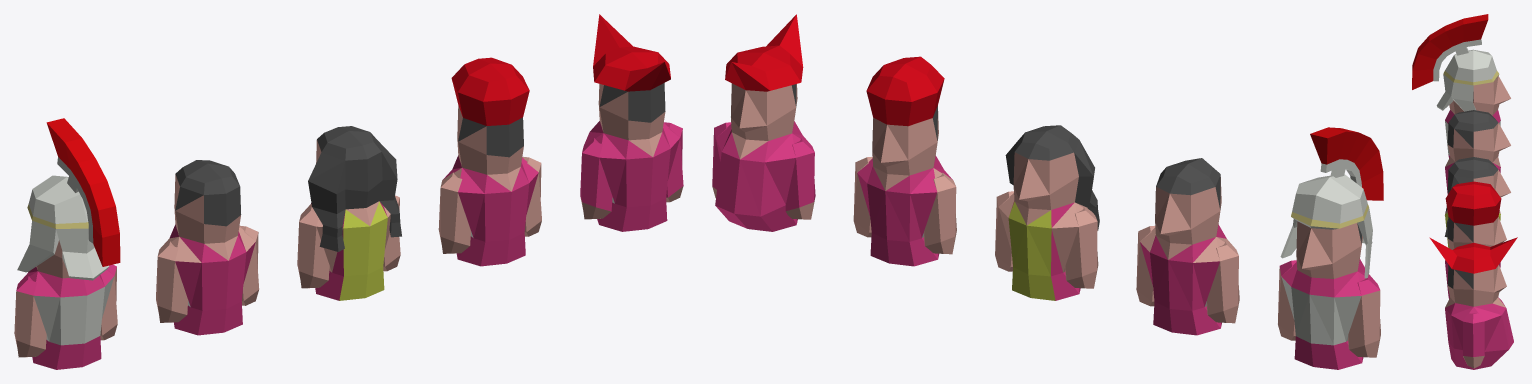
The model's file is roman.fbx.
3 renders of one model, left to right at view 1: azimuth 30°, elevation 25°; view 2: azimuth 150°, elevation 25°; view 3: azimuth 270°, elevation 25°, orthographic. The views are drawn at different scales.
Visible parts, largest first — view 1: roman_body.003, roman_body.004, roman_body.002, roman_body.001, roman_body, roman_helmet, roman_griva, roman_arm_l.001, roman_arm_l, roman_arm_l.004, roman_arm_l.003, roman_arm_l.002 (+5 smaller); view 2: roman_body.004, roman_body.003, roman_body.002, roman_body.001, roman_body, roman_helmet, roman_griva, roman_arm_l.002, roman_arm_l, roman_arm_l.001, roman_arm_l.003, roman_arm_l.004 (+4 smaller); view 3: roman_body.004, roman_body.003, roman_body.001, roman_griva, roman_helmet, roman_body.002, roman_body, roman_arm_r.004.
Part boxes in pixels (x1=…): roman_body.003: x1=443, y1=57, x2=538, y2=266; roman_body.004: x1=584, y1=14, x2=679, y2=231; roman_body.002: x1=301, y1=126, x2=401, y2=300; roman_body.001: x1=160, y1=160, x2=255, y2=335; roman_body: x1=18, y1=240, x2=114, y2=369; roman_helmet: x1=17, y1=175, x2=109, y2=280; roman_griva: x1=46, y1=118, x2=120, y2=266; roman_arm_l.001: x1=156, y1=241, x2=188, y2=322; roman_arm_l: x1=14, y1=276, x2=46, y2=357; roman_arm_l.004: x1=580, y1=138, x2=612, y2=219; roman_arm_l.003: x1=438, y1=172, x2=470, y2=253; roman_arm_l.002: x1=297, y1=207, x2=329, y2=288; roman_body.004: x1=715, y1=14, x2=811, y2=231; roman_body.003: x1=857, y1=56, x2=952, y2=266; roman_body.002: x1=998, y1=125, x2=1099, y2=300; roman_body.001: x1=1140, y1=158, x2=1235, y2=335; roman_body: x1=1281, y1=221, x2=1377, y2=369; roman_helmet: x1=1280, y1=174, x2=1372, y2=278; roman_griva: x1=1310, y1=127, x2=1383, y2=200; roman_arm_l.002: x1=1065, y1=207, x2=1098, y2=288; roman_arm_l: x1=1348, y1=277, x2=1380, y2=357; roman_arm_l.001: x1=1206, y1=241, x2=1239, y2=323; roman_arm_l.003: x1=924, y1=172, x2=956, y2=254; roman_arm_l.004: x1=785, y1=138, x2=815, y2=219; roman_body.004: x1=1429, y1=237, x2=1517, y2=369; roman_body.003: x1=1445, y1=181, x2=1506, y2=298; roman_body.001: x1=1445, y1=110, x2=1510, y2=194; roman_griva: x1=1412, y1=14, x2=1488, y2=89; roman_helmet: x1=1436, y1=49, x2=1499, y2=111; roman_body.002: x1=1444, y1=157, x2=1510, y2=248; roman_body: x1=1445, y1=76, x2=1510, y2=158; roman_arm_r.004: x1=1463, y1=313, x2=1484, y2=368.
Bounding box in the file's own units: 943 × 307 × 191.
